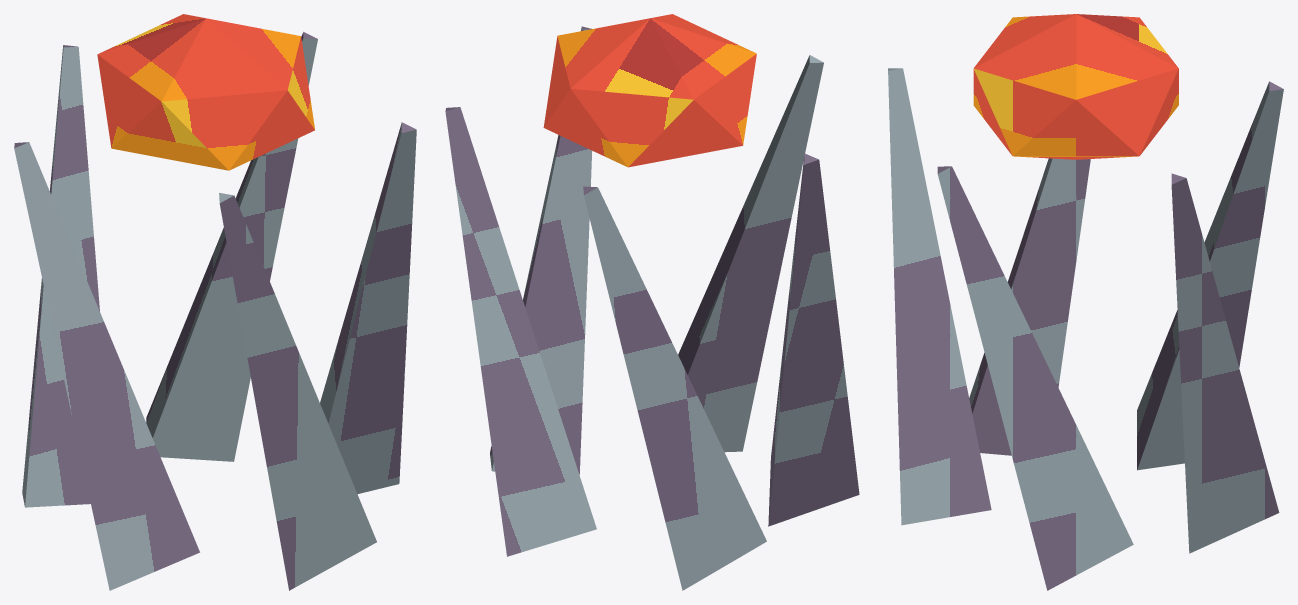
The model's file is r07_flor_de_cinza.glb.
3 renders of one model, left to right at view 1: azimuth 30°, elevation 25°; view 2: azimuth 150°, elevation 25°; view 3: azimuth 270°, elevation 25°, orthographic. The views are drawn at different scales.
Visible parts, largest first — view 1: r07_flor_de_cinza; view 2: r07_flor_de_cinza; view 3: r07_flor_de_cinza.
Part boxes in pixels (x1,y1,x2,y2): r07_flor_de_cinza: (14, 14, 416, 590); r07_flor_de_cinza: (445, 14, 859, 590); r07_flor_de_cinza: (888, 14, 1283, 590).
Size of the model in its own units: 0.4083 by 0.5473 by 0.3937.
2 materials, 2 textured.
